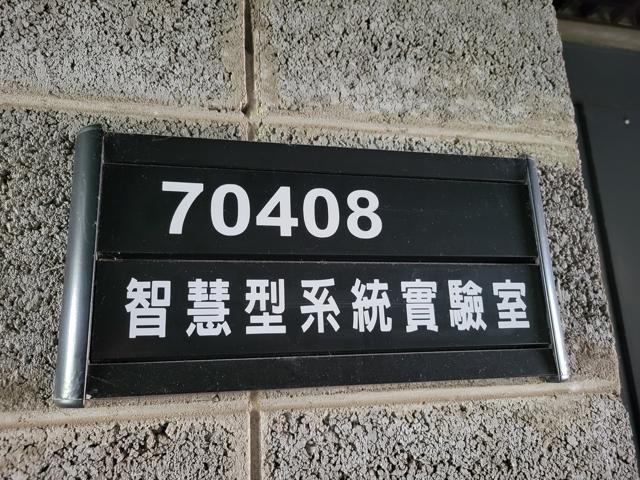doorplate: (50, 116, 576, 410)
